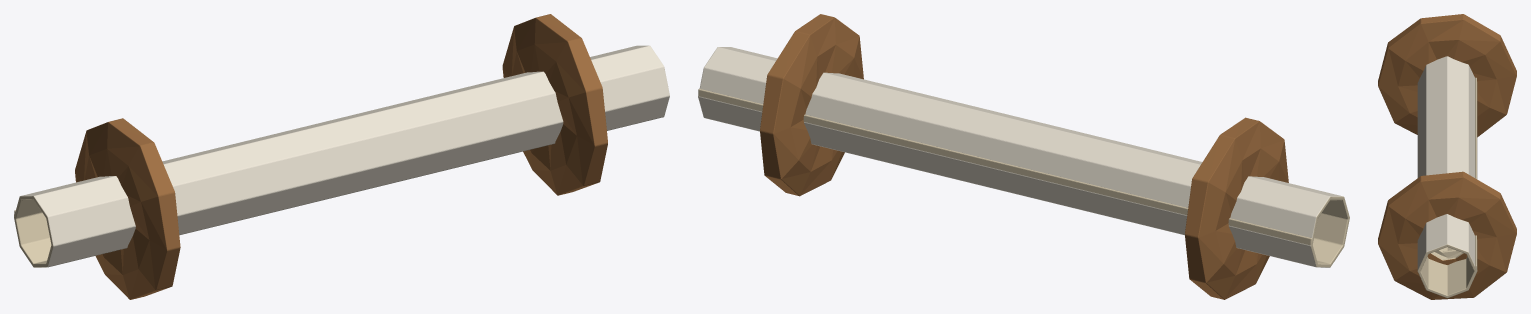
File: achievement-gym-regular.glb
3 renders of one model, left to right at view 1: azimuth 30°, elevation 25°; view 2: azimuth 150°, elevation 25°; view 3: azimuth 270°, elevation 25°, orthographic. The views are drawn at different scales.
Visible parts, largest first — view 1: achievement-gym-regular; view 2: achievement-gym-regular; view 3: achievement-gym-regular.
Boxes of the visible parts, bbox=[...] form: achievement-gym-regular: bbox=[14, 14, 669, 299]; achievement-gym-regular: bbox=[698, 14, 1349, 299]; achievement-gym-regular: bbox=[1378, 14, 1516, 299].
Size of the model in its own units: 2.28 by 0.5741 by 0.5878.
